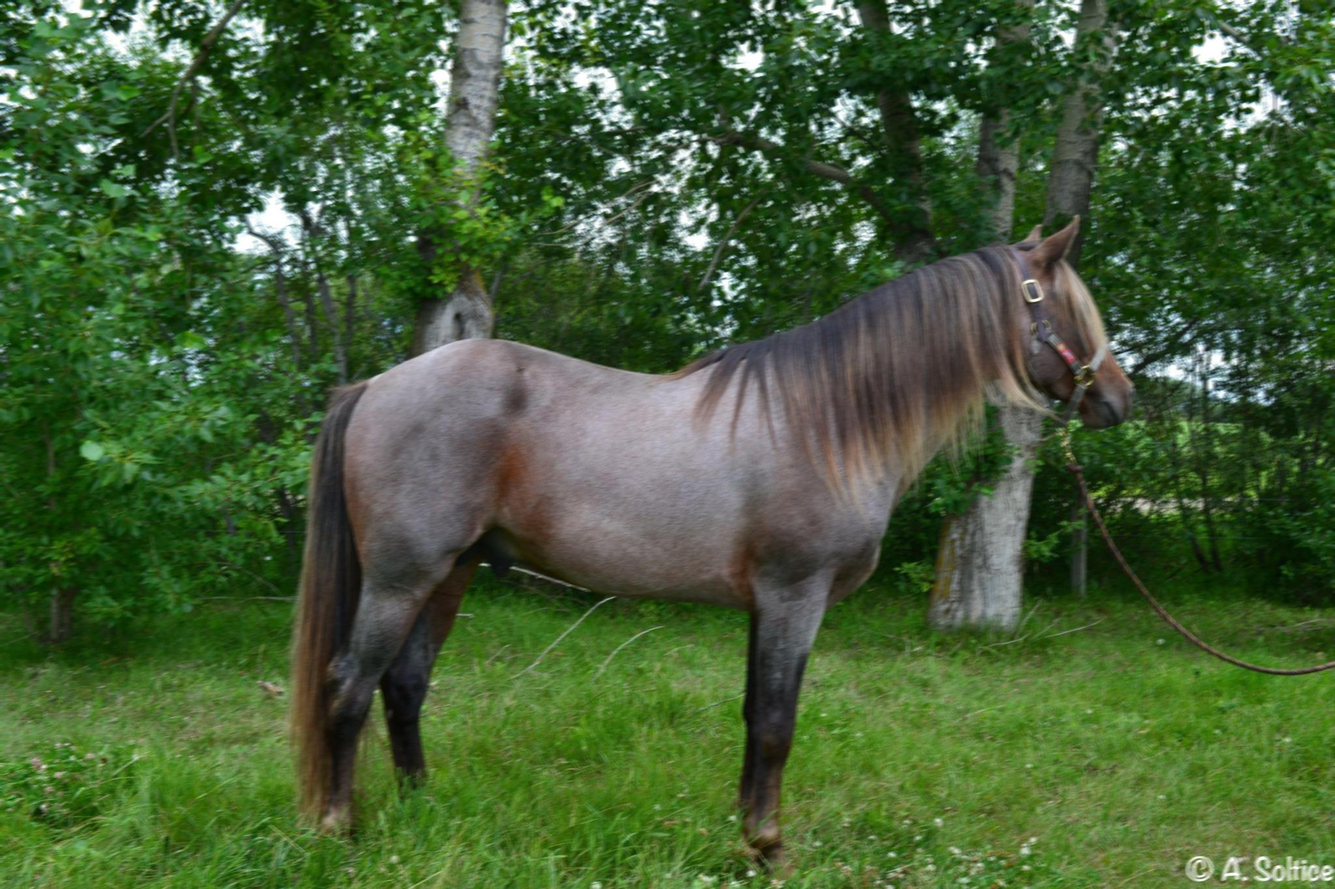horse: (284, 213, 1135, 878)
